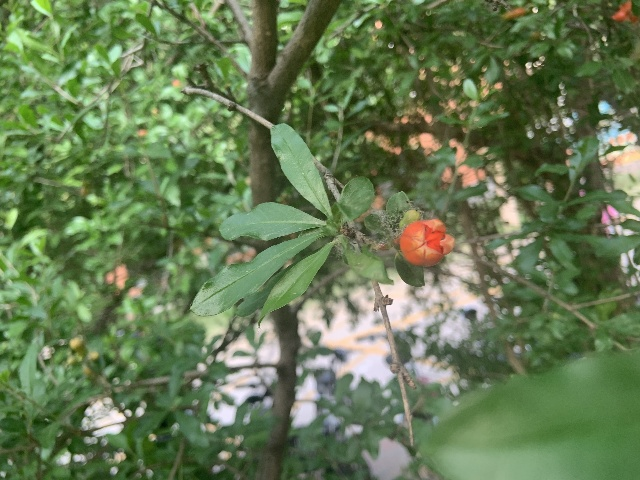bud: (399, 209, 421, 230)
flower: (399, 219, 454, 266)
